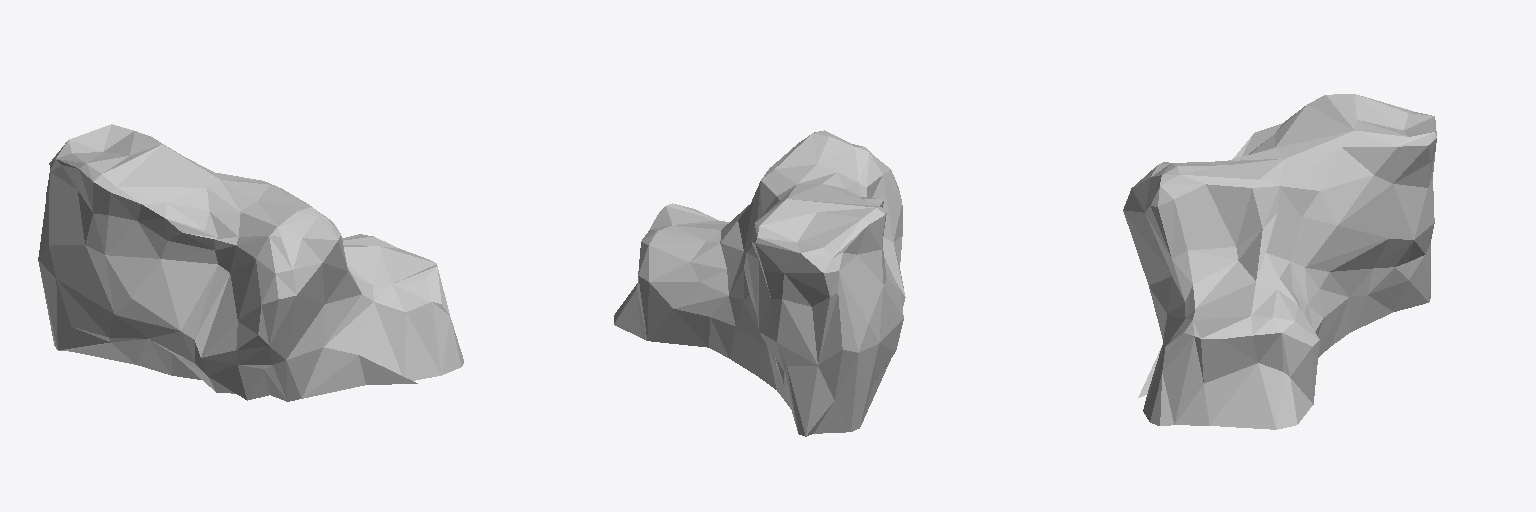
Rendered from rocks_01_small.obj.
3 views of the same model, side by side, from view 1: azimuth 30°, elevation 25°; view 2: azimuth 150°, elevation 25°; view 3: azimuth 270°, elevation 25° (orthographic).
Parts seen in each view (by area): view 1: rocks_01_small; view 2: rocks_01_small; view 3: rocks_01_small.
Part boxes in pixels (x1,y1,x2,y2): rocks_01_small: (38,124,463,401); rocks_01_small: (614,130,905,436); rocks_01_small: (1123,94,1436,429).
Size of the model in its own units: 63.74 by 38.42 by 55.76.